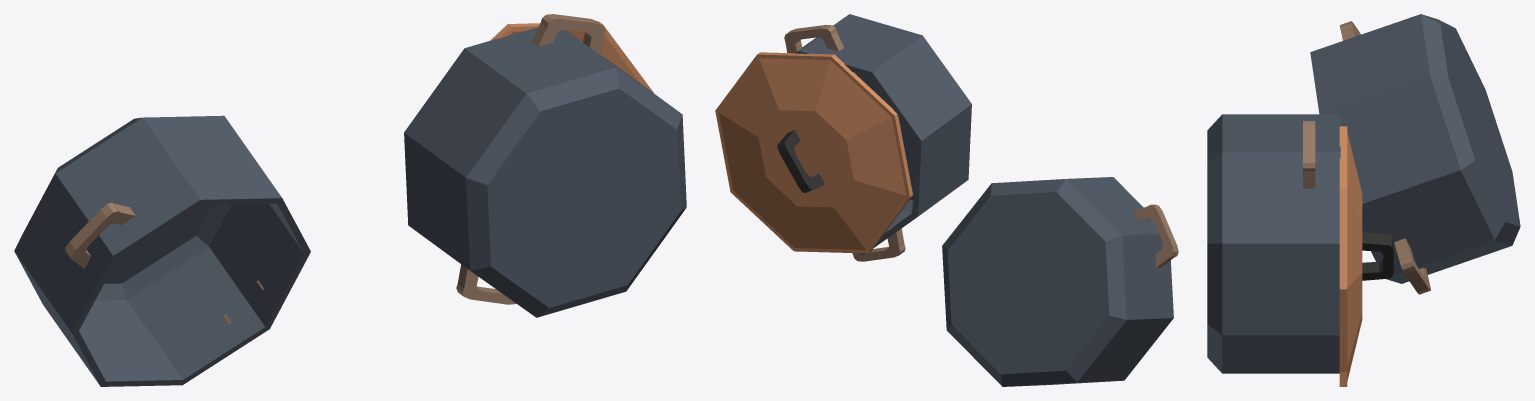
Rendered from Pots.fbx.
The picture shows the model from 3 angles, left to right: view 1: azimuth 30°, elevation 25°; view 2: azimuth 150°, elevation 25°; view 3: azimuth 270°, elevation 25°; orthographic projection. The views are drawn at different scales.
Parts seen in each view (by area): view 1: pot.001, pot.002, potHandle, potHandle.001, potLid.001; view 2: pot.002, potLid.001, pot.001, potHandle, potLidHandle, potHandle.001; view 3: pot.002, pot.001, potLid.001, potLidHandle, potHandle.001, potHandle.
Part boxes in pixels (bbox=[...]): pot.001: bbox=[404, 27, 686, 317]; pot.002: bbox=[14, 115, 310, 386]; potHandle: bbox=[456, 14, 605, 304]; potHandle.001: bbox=[65, 202, 263, 324]; potLid.001: bbox=[490, 21, 653, 92]; pot.002: bbox=[942, 177, 1173, 386]; potLid.001: bbox=[715, 52, 912, 253]; pot.001: bbox=[795, 14, 971, 254]; potHandle: bbox=[784, 24, 905, 261]; potLidHandle: bbox=[777, 130, 824, 192]; potHandle.001: bbox=[1132, 204, 1178, 267]; pot.002: bbox=[1310, 14, 1520, 283]; pot.001: bbox=[1207, 114, 1340, 373]; potLid.001: bbox=[1339, 126, 1362, 386]; potLidHandle: bbox=[1362, 232, 1393, 280]; potHandle.001: bbox=[1340, 21, 1430, 294]; potHandle: bbox=[1303, 121, 1315, 188].
Size of the model in its own units: 0.8555 by 0.4643 by 0.4229.
